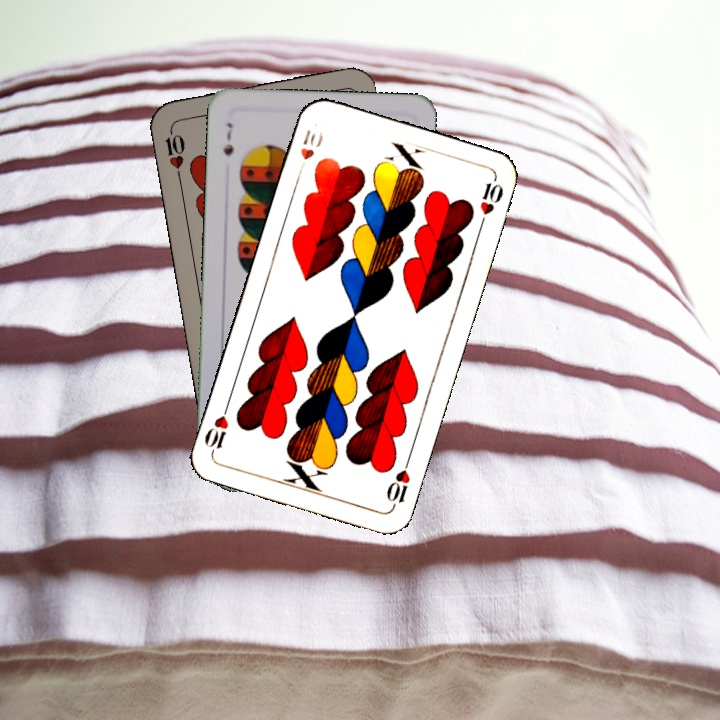H10: (382, 453, 413, 511), (294, 125, 326, 177), (160, 123, 188, 182)
S7: (219, 119, 236, 159)
